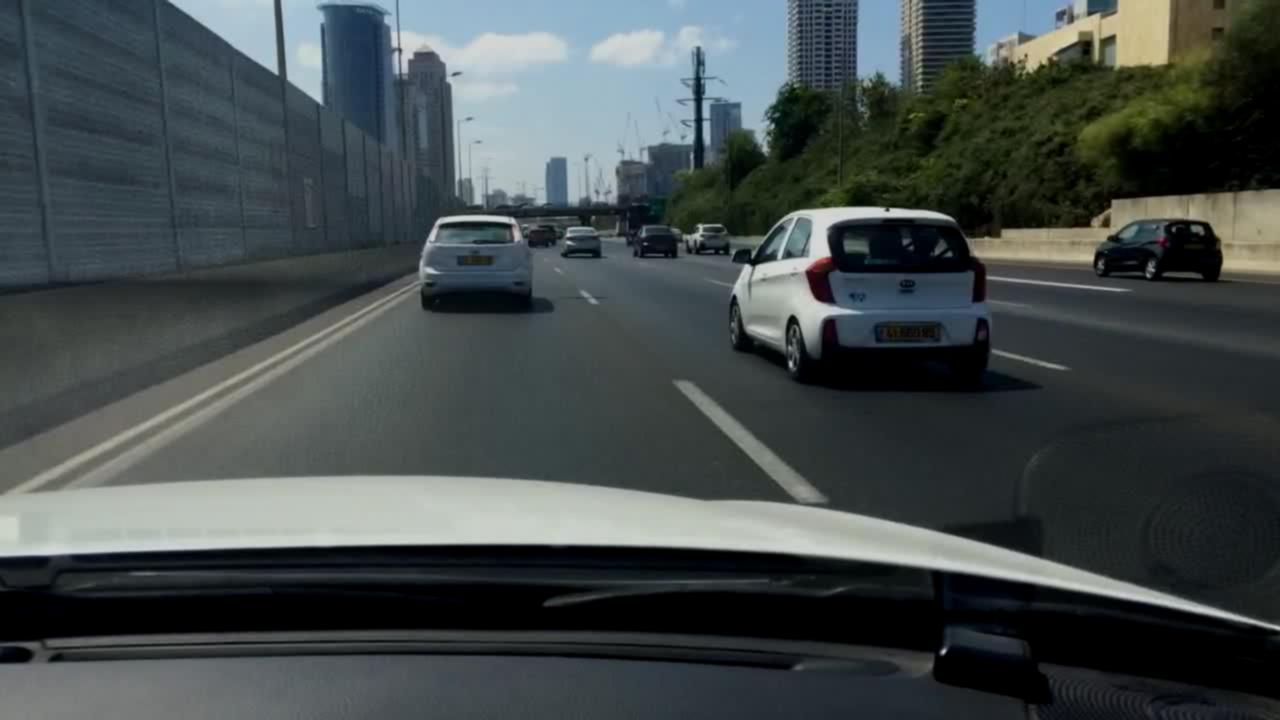kia: (894, 275, 921, 295)
